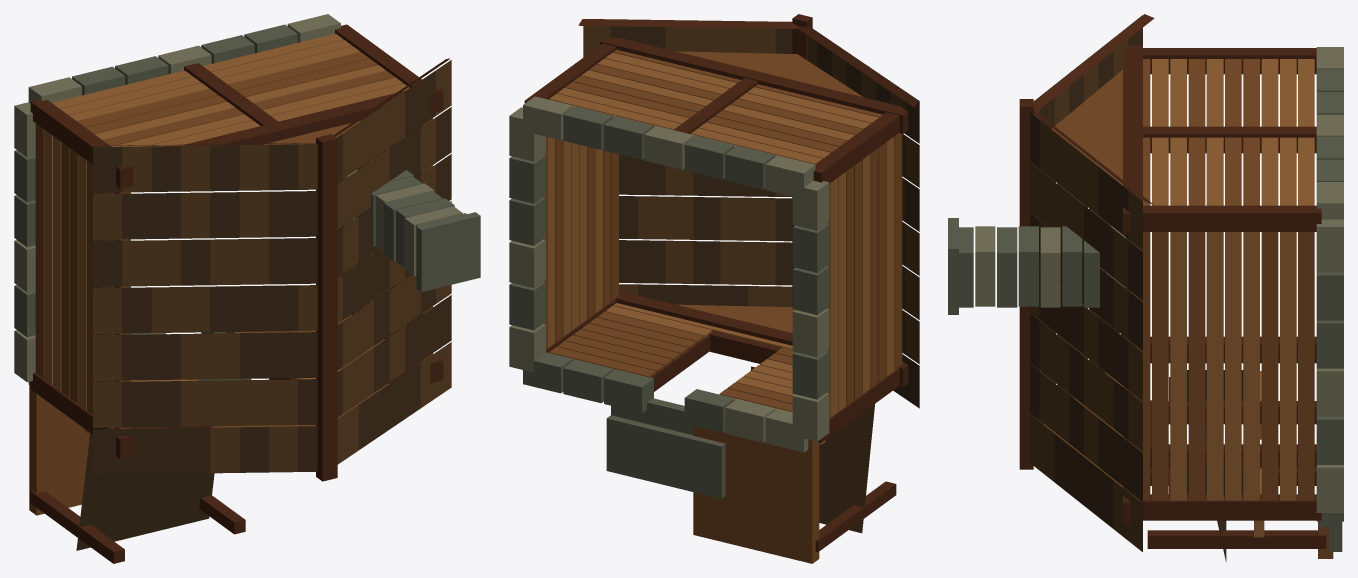
The model's file is SM_RuralCottage_C.obj.
3 views of the same model, side by side, from view 1: azimuth 30°, elevation 25°; view 2: azimuth 150°, elevation 25°; view 3: azimuth 270°, elevation 25° (orthographic). The views are drawn at different scales.
Visible parts, largest first — view 1: SM_RuralCottage_C; view 2: SM_RuralCottage_C; view 3: SM_RuralCottage_C.
Part boxes in pixels (x1,y1,x2,y2): SM_RuralCottage_C: (14,14,480,563); SM_RuralCottage_C: (509,14,919,563); SM_RuralCottage_C: (948,14,1343,562).
Bounding box in the file's own units: 570 × 672 × 510.
